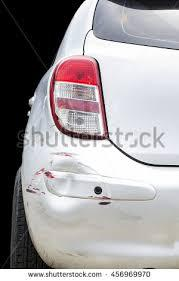rear-bumper-dent: (13, 139, 178, 251)
